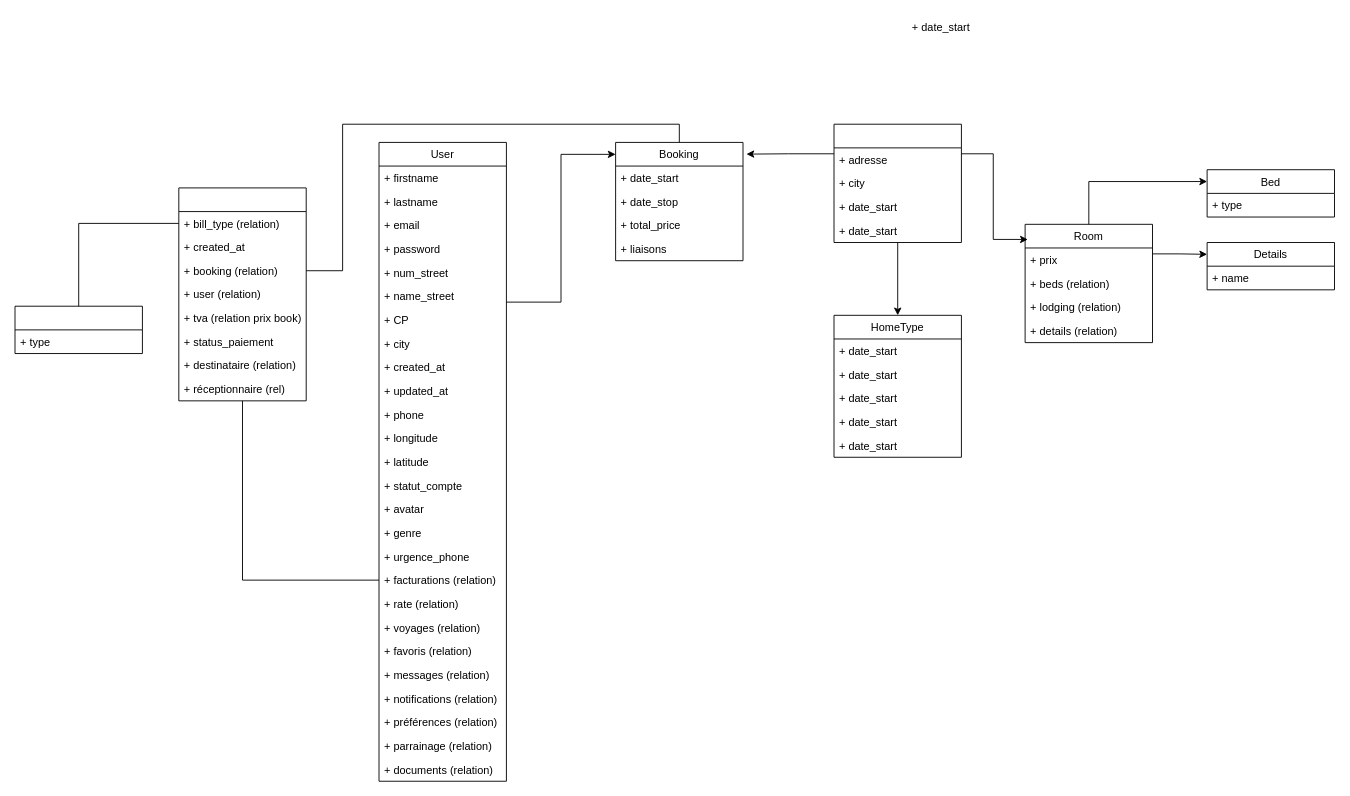
The diagram is 1350 pixels wide and 796 high, and some of its shapes have lost their labels. The shapes that lost their labels are listed below. From the top down, each one's box as (x1, y1, x2, y2) in pixels, then its label:
(833, 123, 961, 243): Lodging
(178, 187, 306, 401): Billing
(14, 305, 142, 354): BillType
